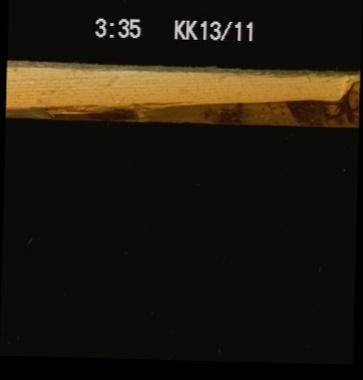wave: (5, 64, 359, 121)
